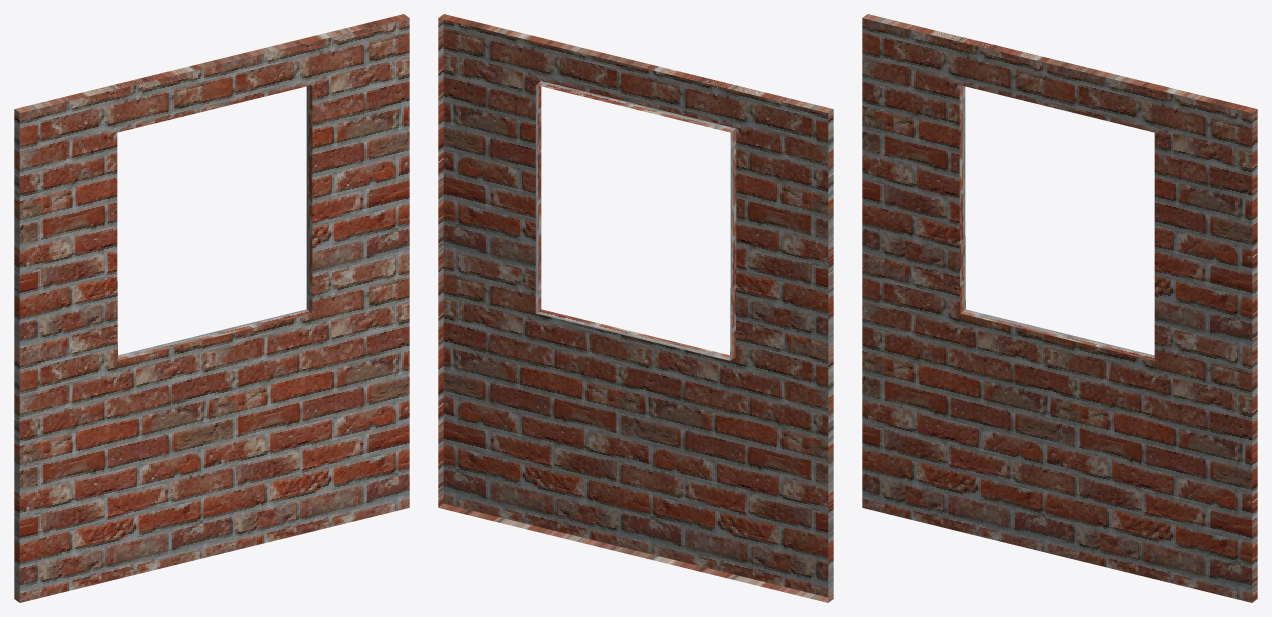
Rendered from window_wall6.glb.
3 views of the same model, side by side, from view 1: azimuth 30°, elevation 25°; view 2: azimuth 150°, elevation 25°; view 3: azimuth 330°, elevation 25° (orthographic).
Parts seen in each view (by area): view 1: window_wall6; view 2: window_wall6; view 3: window_wall6.
Part boxes in pixels (box(x1,y1,x2,y2)): window_wall6: box(14, 14, 409, 602); window_wall6: box(438, 14, 833, 602); window_wall6: box(862, 14, 1257, 602).
Bounding box in the file's own units: 2 × 2.4 × 0.05.
1 material, 1 textured.
